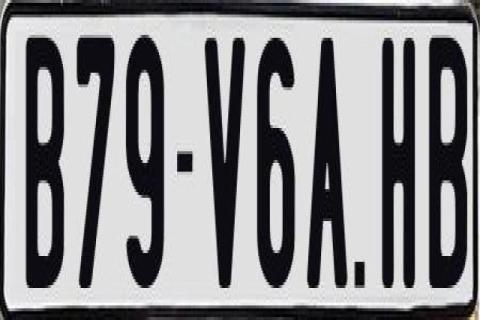0: (75, 29, 118, 288), (255, 29, 295, 291), (126, 35, 164, 299)
A: (308, 29, 350, 291)
B: (26, 38, 68, 291), (428, 29, 462, 285)
H: (379, 32, 414, 294)
V: (202, 35, 250, 294)
